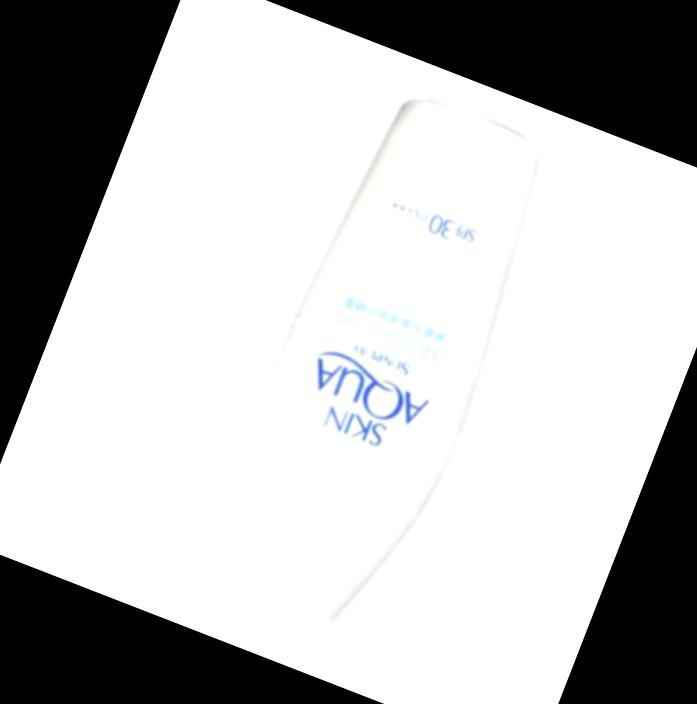cosmetic: (201, 96, 551, 646)
